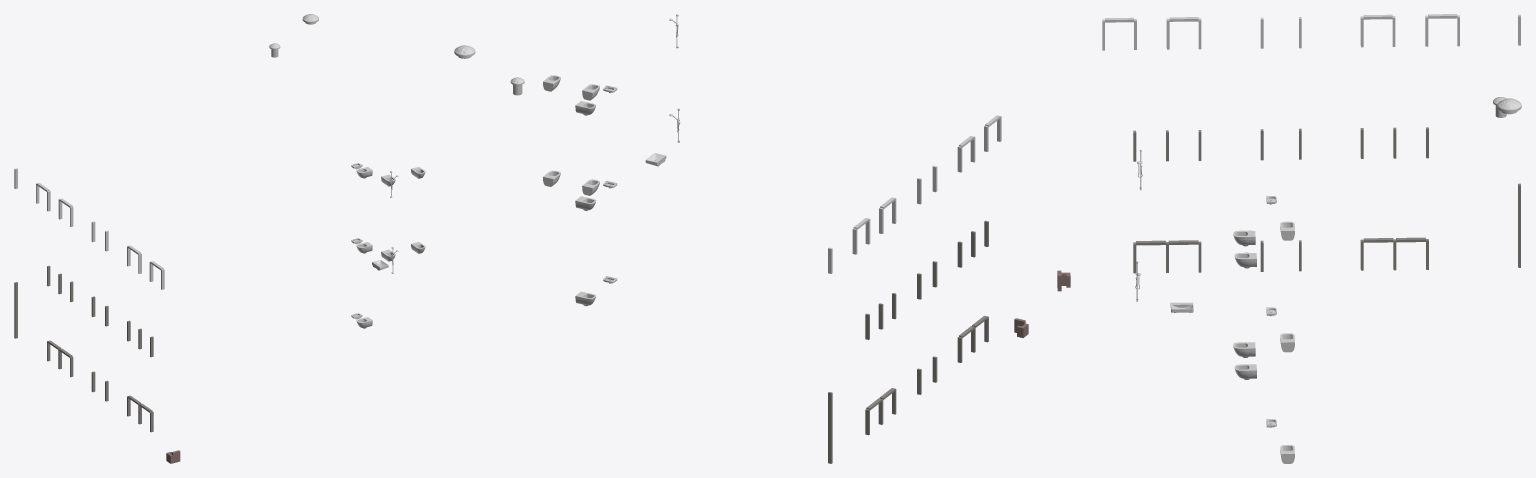
3 views of the same model, side by side, from view 1: azimuth 30°, elevation 25°; view 2: azimuth 150°, elevation 25°; view 3: azimuth 270°, elevation 25° (orthographic). The views are drawn at different scales.
Bounding box in the file's own units: 13.23 × 10.65 × 11.32.
